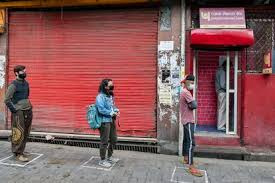mask: (104, 77, 115, 92), (184, 77, 195, 92), (16, 66, 27, 79)
